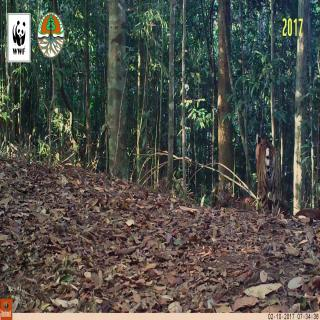Tiger: (248, 121, 280, 232)
